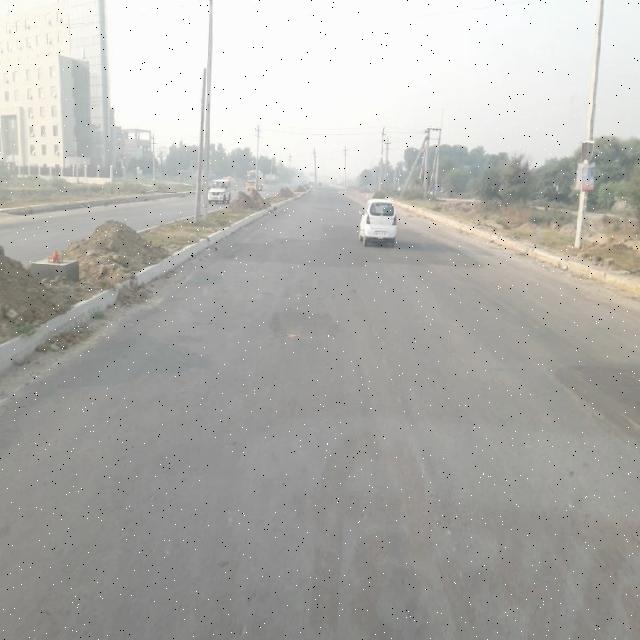D40: (269, 322, 311, 348)
